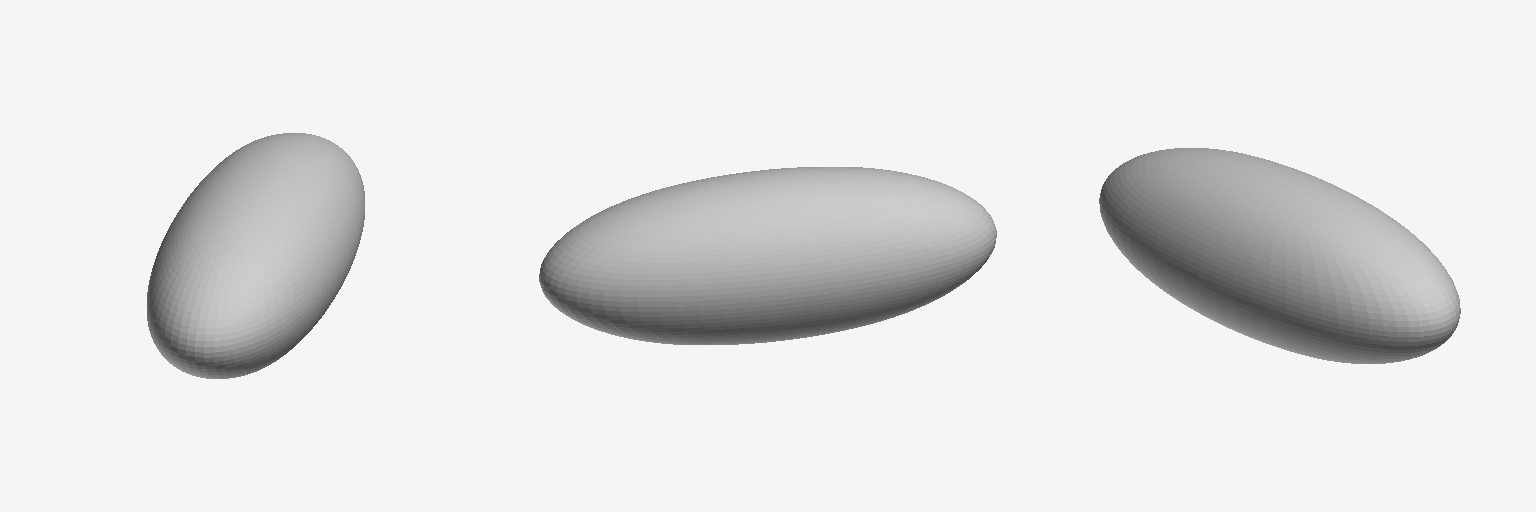
The model's file is nudo4-3.obj.
3 renders of one model, left to right at view 1: azimuth 30°, elevation 25°; view 2: azimuth 150°, elevation 25°; view 3: azimuth 270°, elevation 25°, orthographic.
Parts seen in each view (by area): view 1: nudo4_3_Mesh; view 2: nudo4_3_Mesh; view 3: nudo4_3_Mesh.
Boxes of the visible parts, x1=… form: nudo4_3_Mesh: x1=147, y1=133, x2=364, y2=378; nudo4_3_Mesh: x1=539, y1=167, x2=996, y2=344; nudo4_3_Mesh: x1=1099, y1=148, x2=1460, y2=363.
Size of the model in its own units: 0.8203 by 0.3825 by 0.8203.